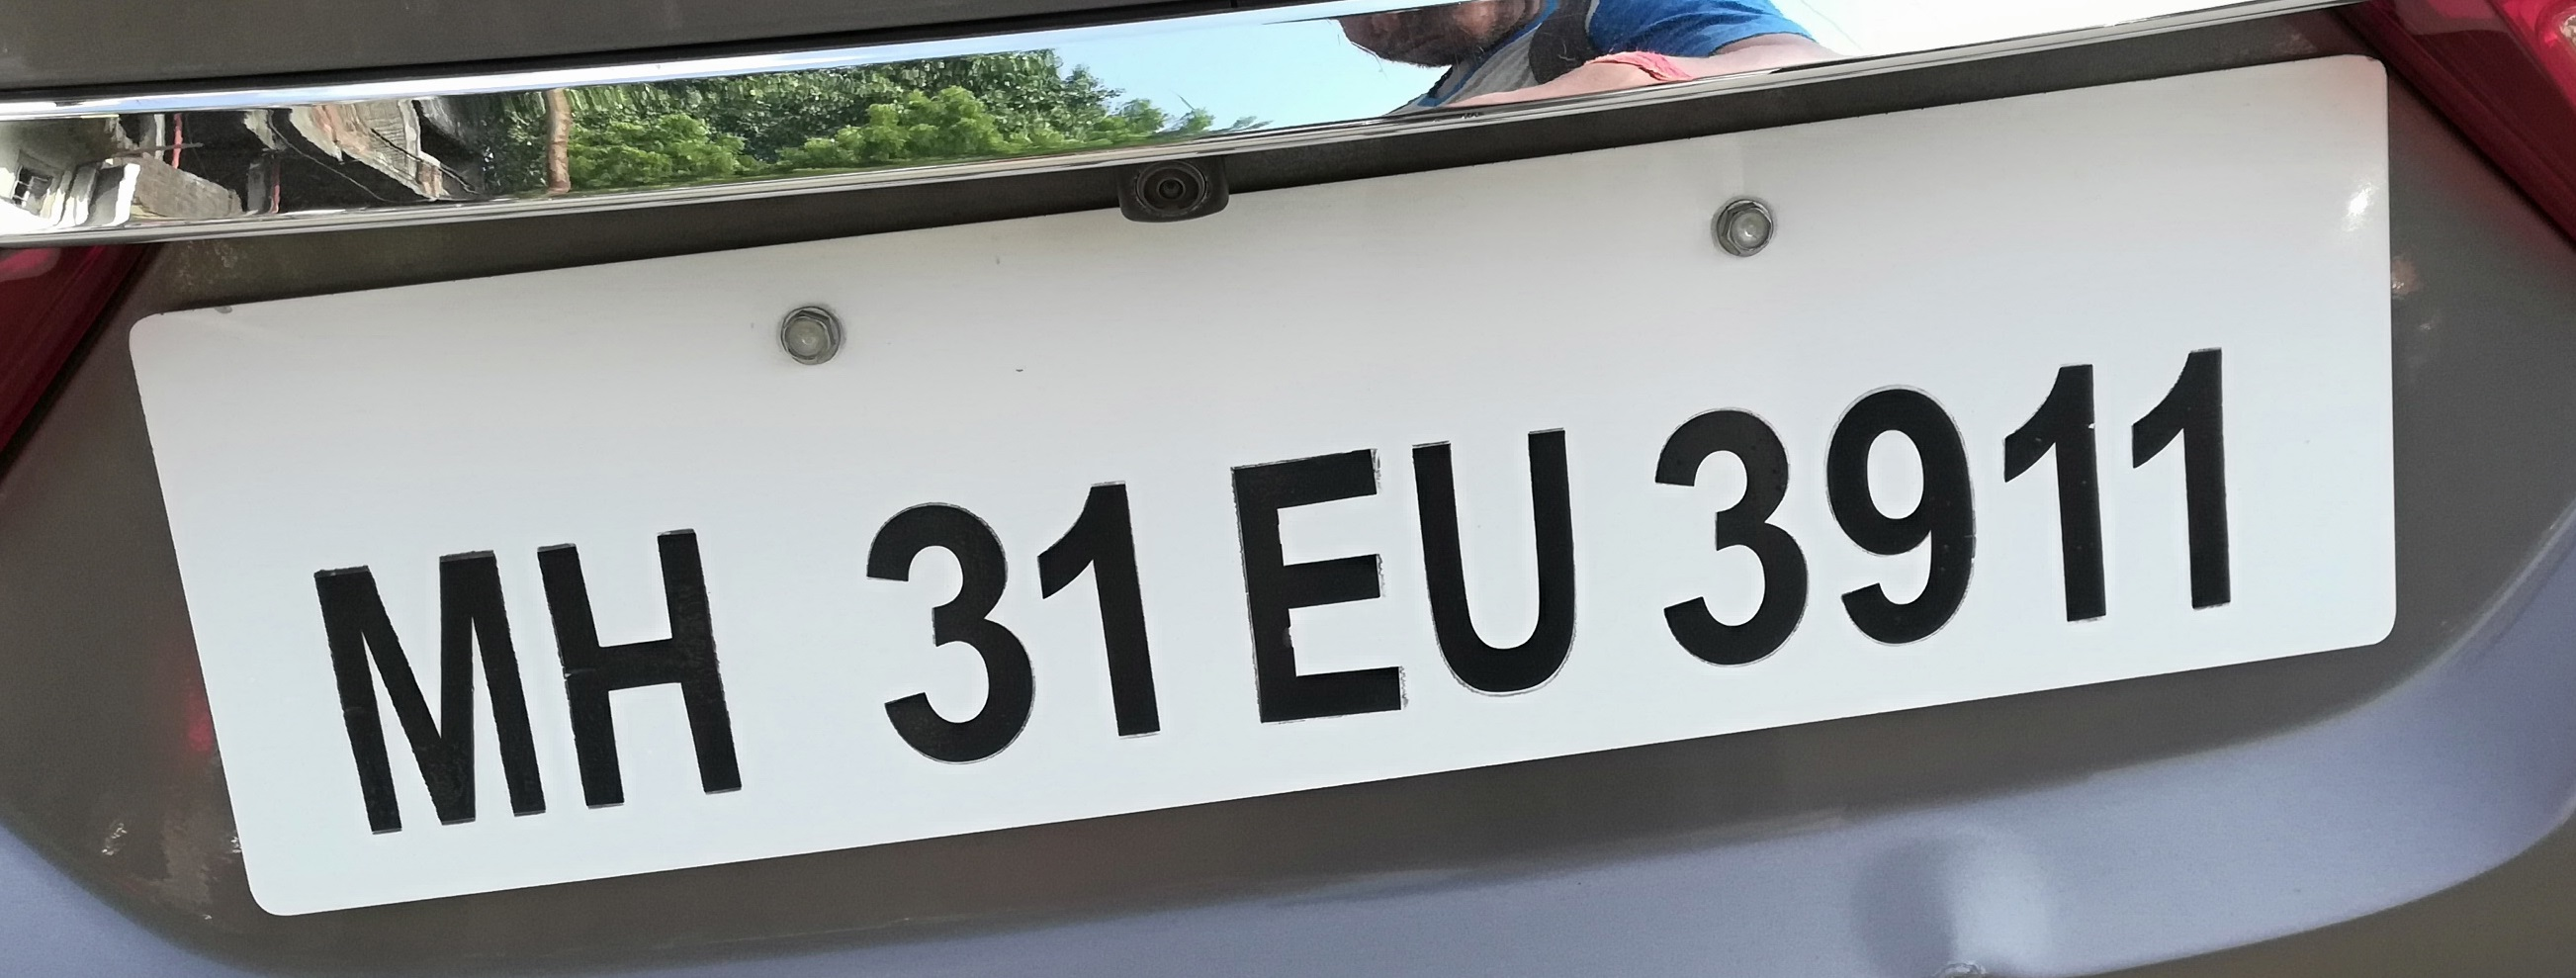numberplate: (127, 48, 2442, 928)
